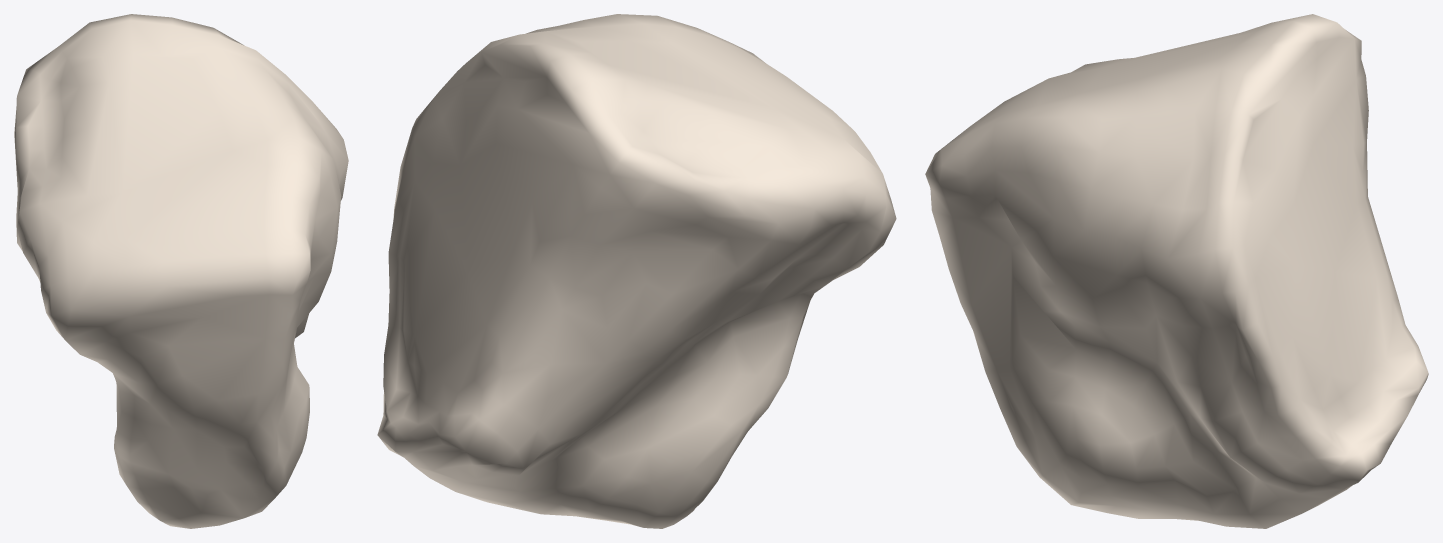
Rendered from right_intermediate_cuneiform.glb.
3 renders of one model, left to right at view 1: azimuth 30°, elevation 25°; view 2: azimuth 150°, elevation 25°; view 3: azimuth 270°, elevation 25°, orthographic. The views are drawn at different scales.
Parts seen in each view (by area): view 1: Intermediate cuneiform bone.r; view 2: Intermediate cuneiform bone.r; view 3: Intermediate cuneiform bone.r.
Part boxes in pixels (x1,y1,x2,y2): Intermediate cuneiform bone.r: [14, 14, 348, 528]; Intermediate cuneiform bone.r: [377, 14, 896, 528]; Intermediate cuneiform bone.r: [925, 14, 1428, 528].
Size of the model in its own units: 0.0197 by 0.0237 by 0.0216.
